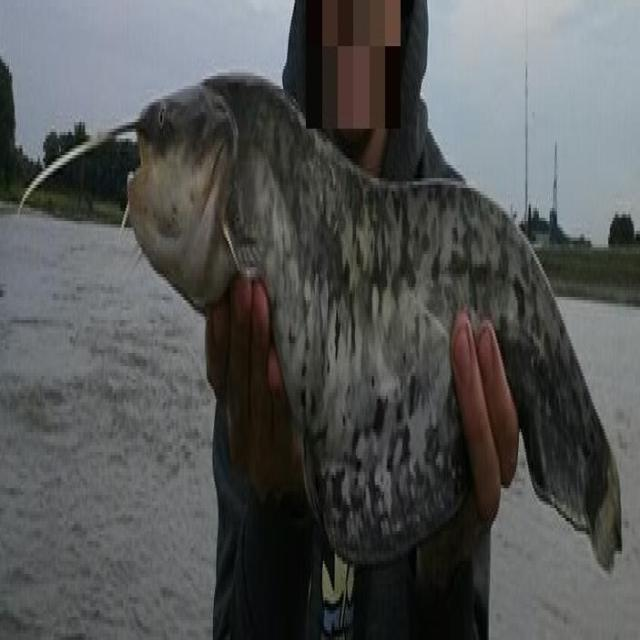Catfish: (14, 0, 627, 619)
